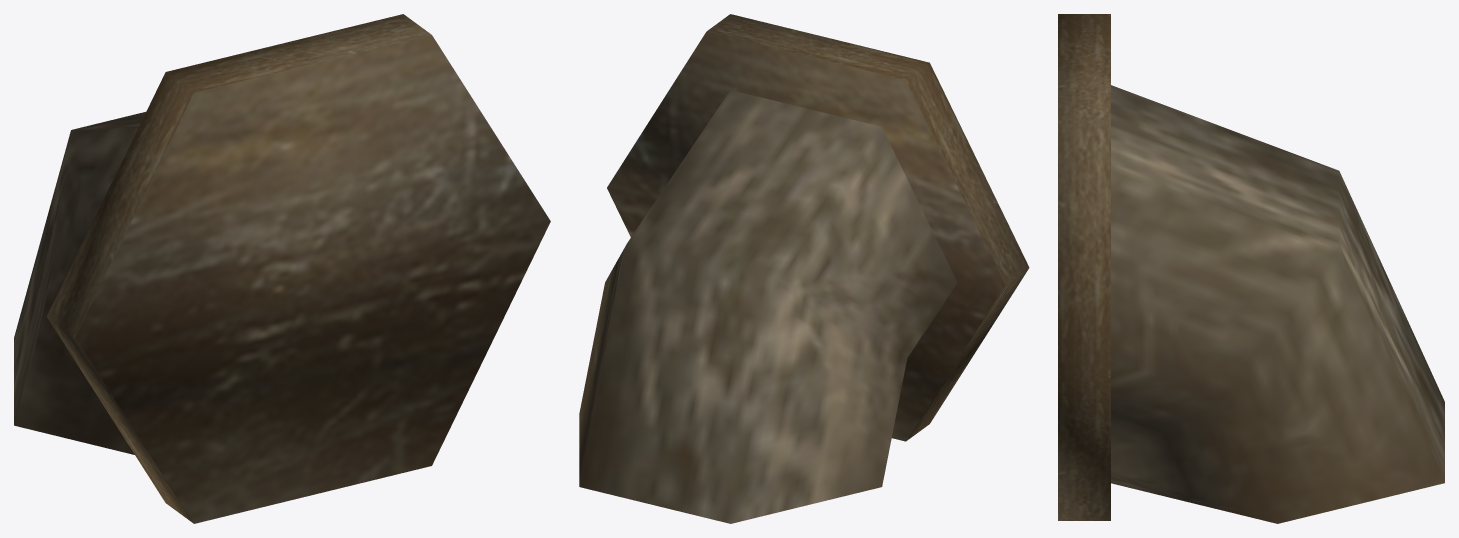
Rendered from large_brown_1_elbow.fbx.
The picture shows the model from 3 angles, left to right: view 1: azimuth 30°, elevation 25°; view 2: azimuth 150°, elevation 25°; view 3: azimuth 270°, elevation 25°; orthographic projection. The views are drawn at different scales.
Parts seen in each view (by area): view 1: polySurface668; view 2: polySurface668; view 3: polySurface668.
Boxes of the visible parts, left/top/right/bottom form: polySurface668: left=14, top=14, right=550, bottom=523; polySurface668: left=579, top=14, right=1029, bottom=523; polySurface668: left=1058, top=14, right=1444, bottom=523.
Bounding box in the file's own units: 0.3294 × 0.2853 × 0.2504.
